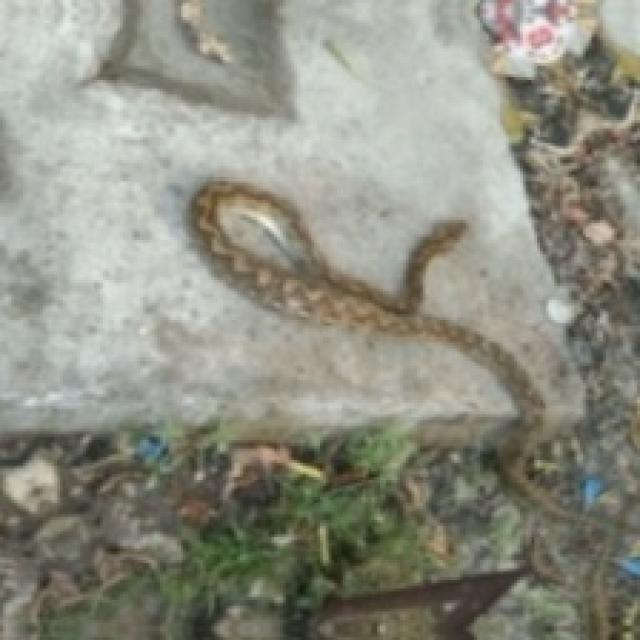reticulated python: (189, 180, 591, 526), (191, 180, 591, 526)
